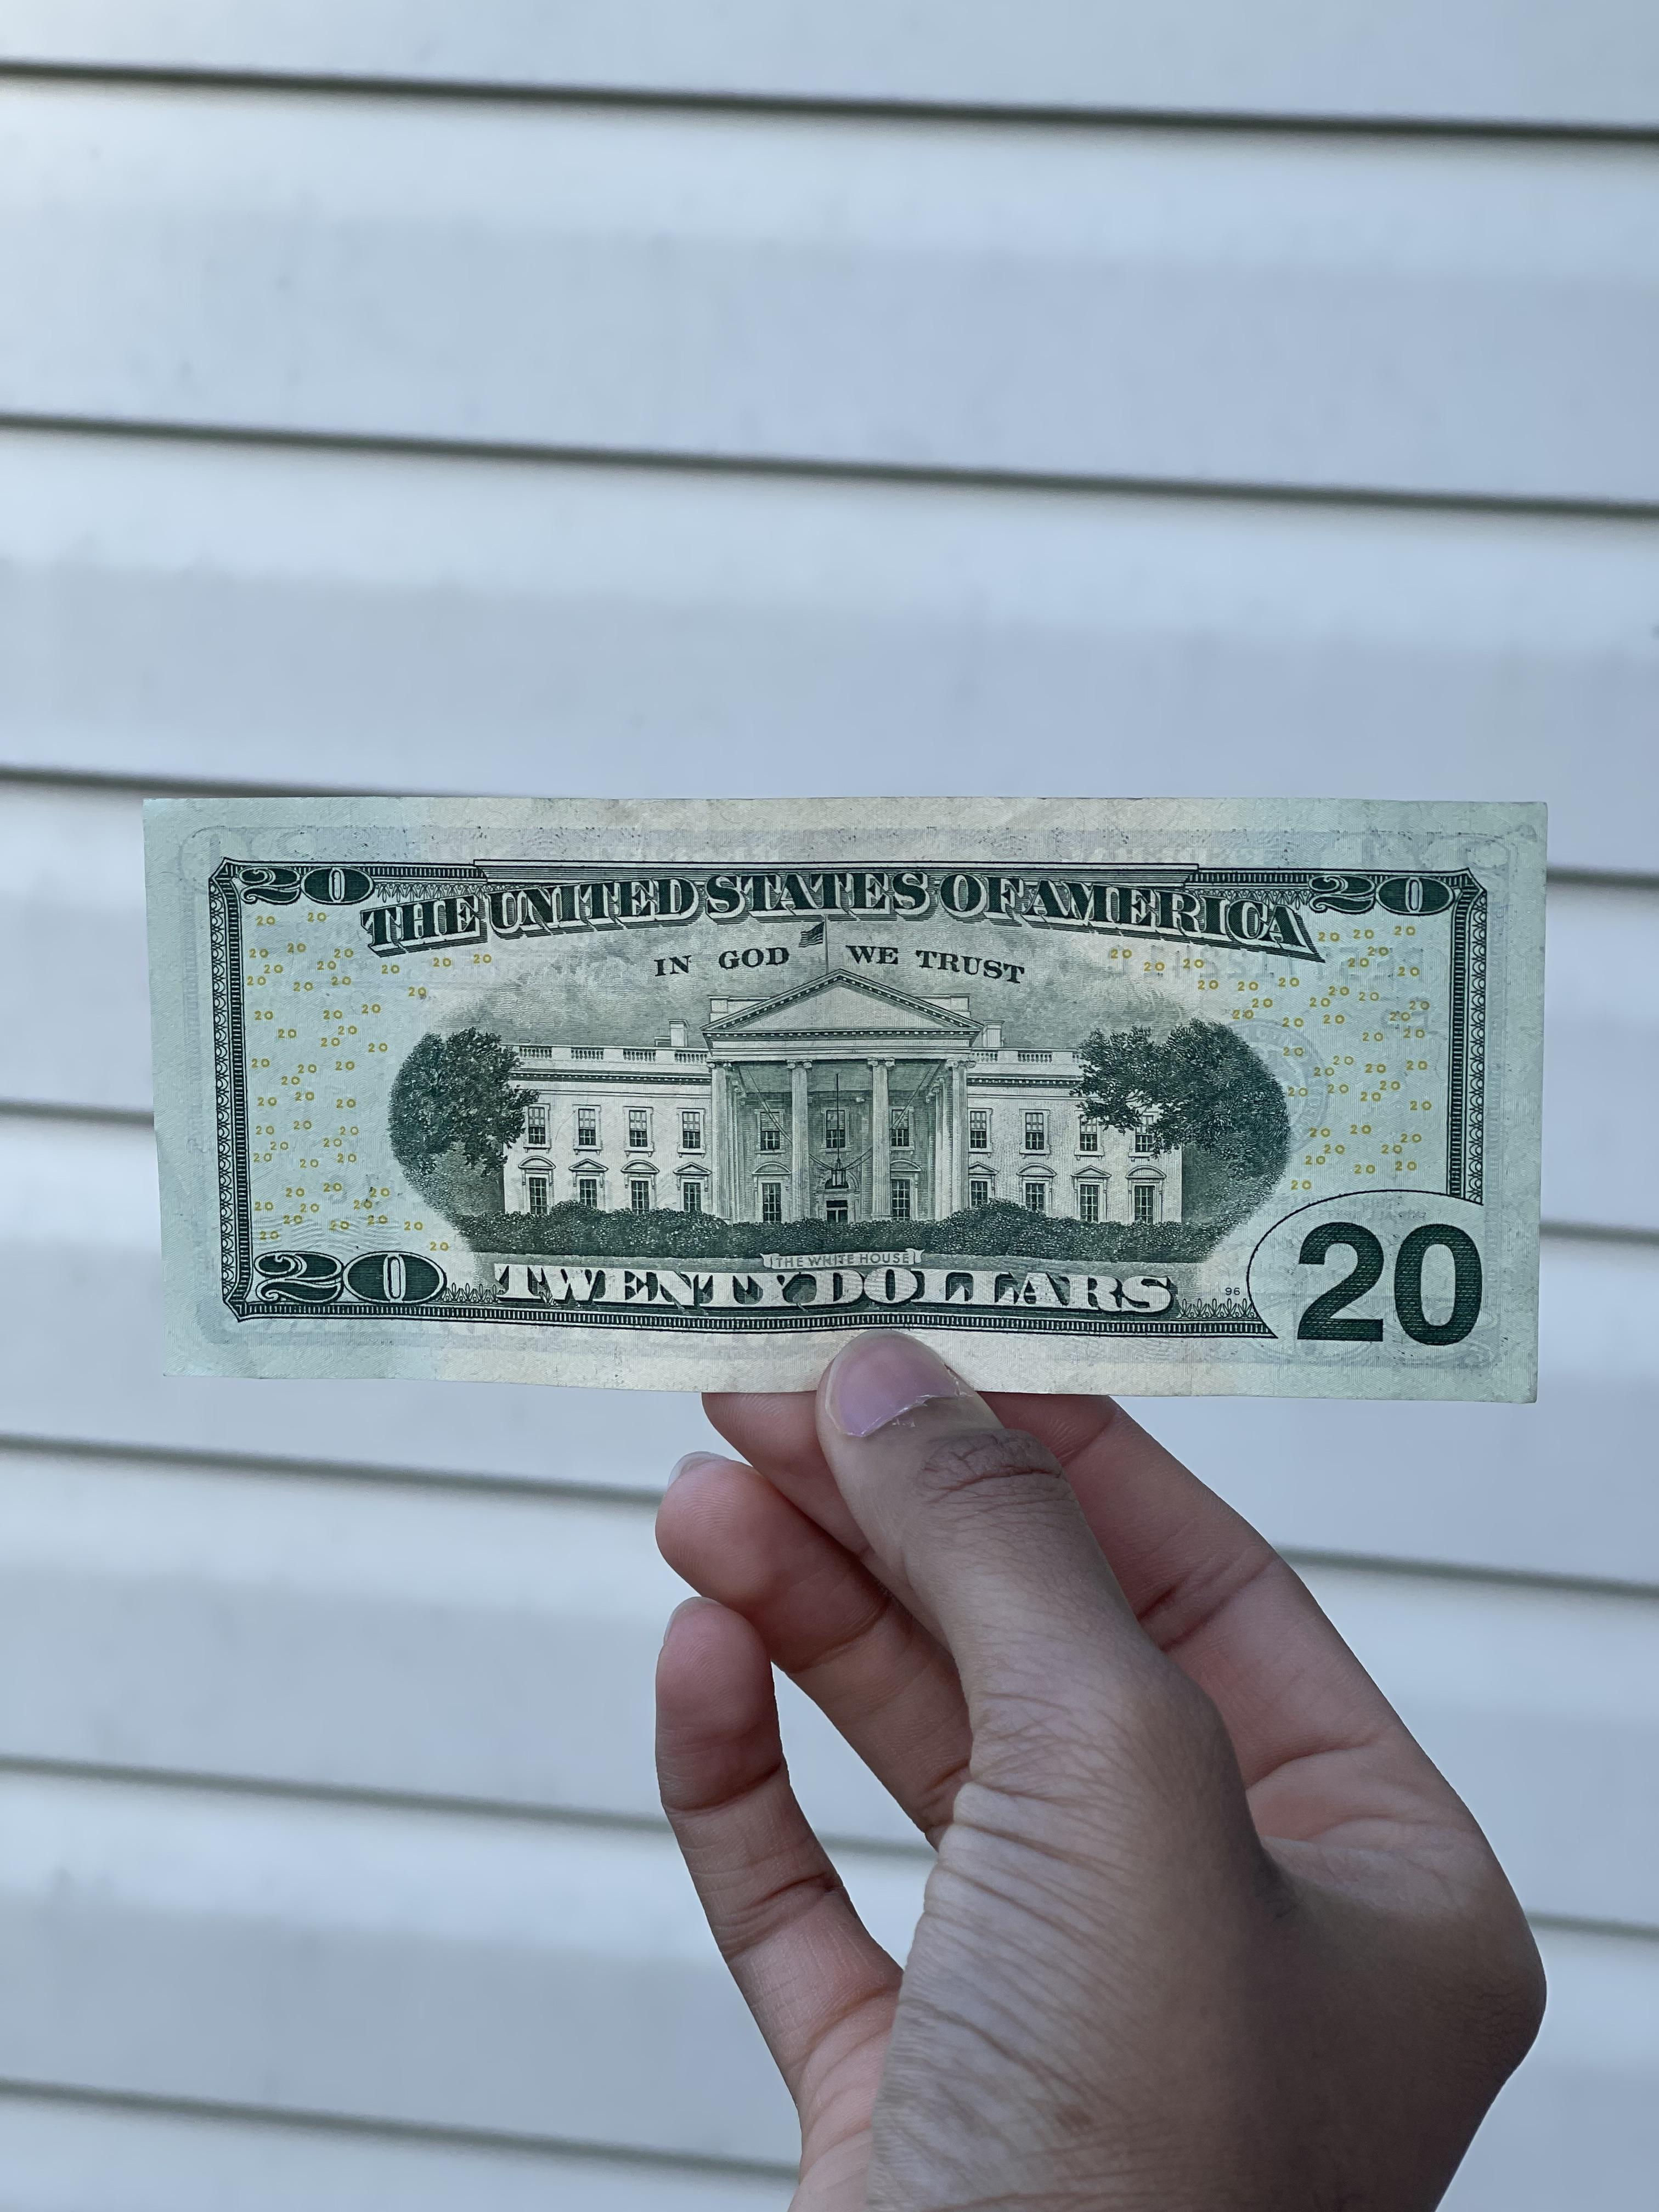TwentyBill: (141, 794, 1554, 1407)
